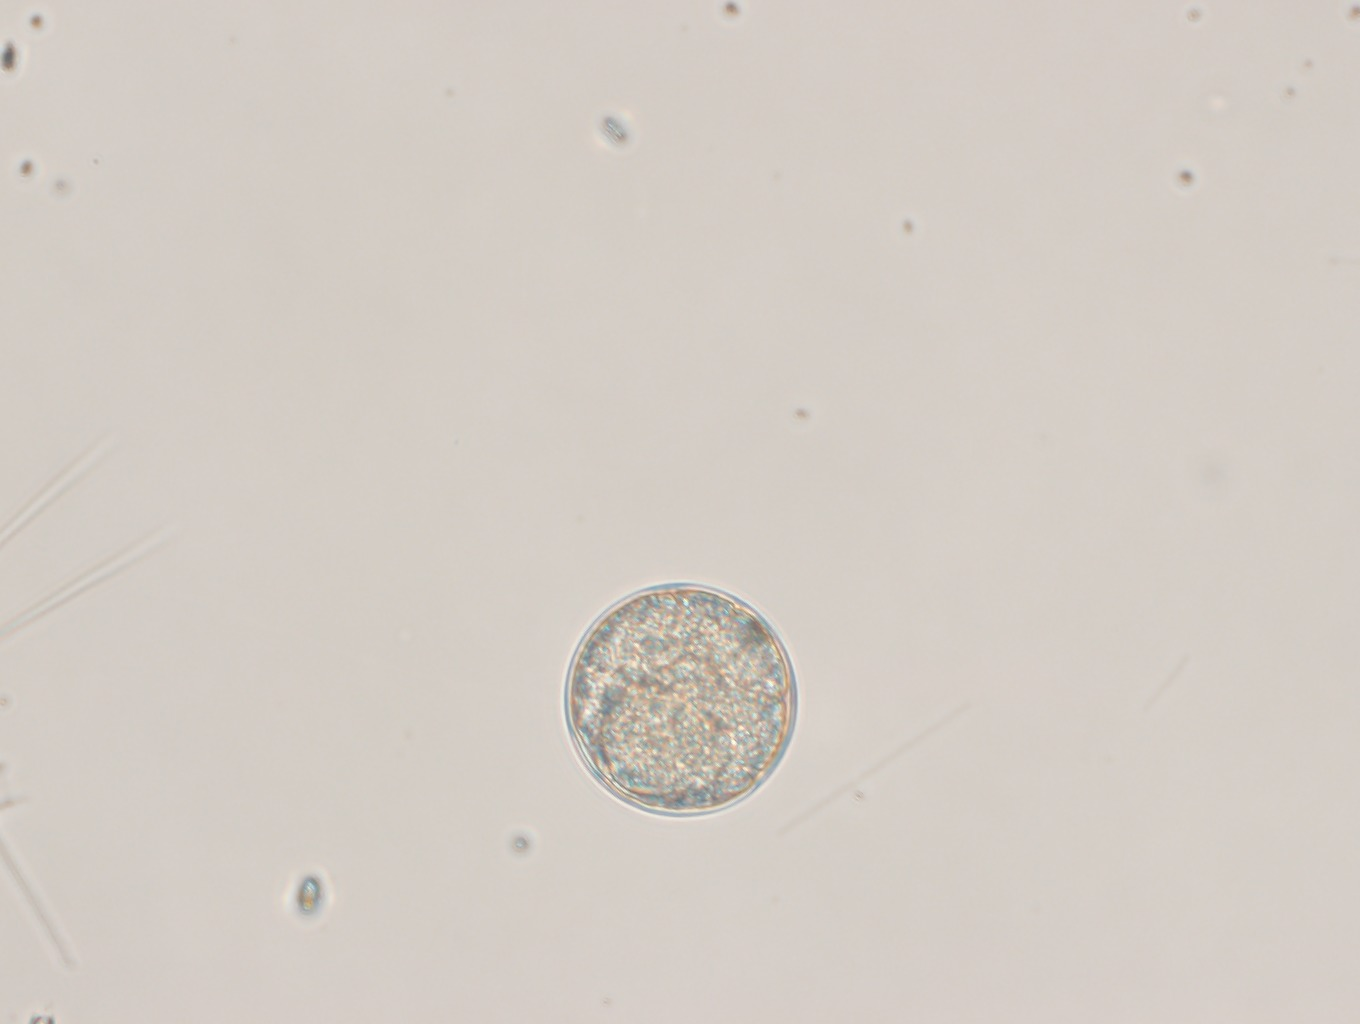coscinodiscus: (556, 578, 805, 819)
